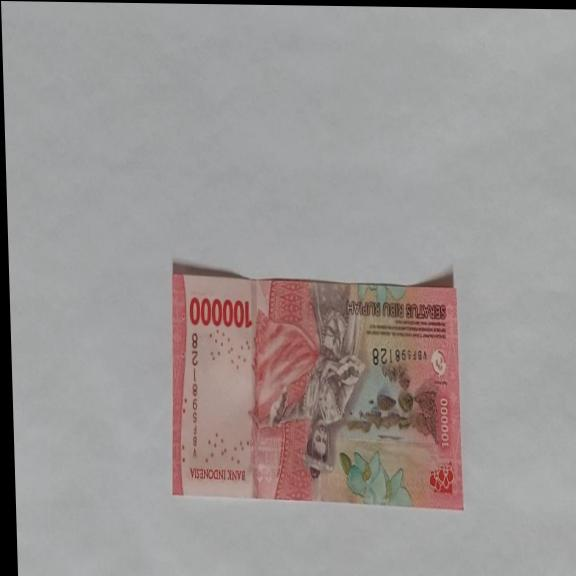Kertas: (165, 267, 464, 510), (187, 295, 252, 331)
